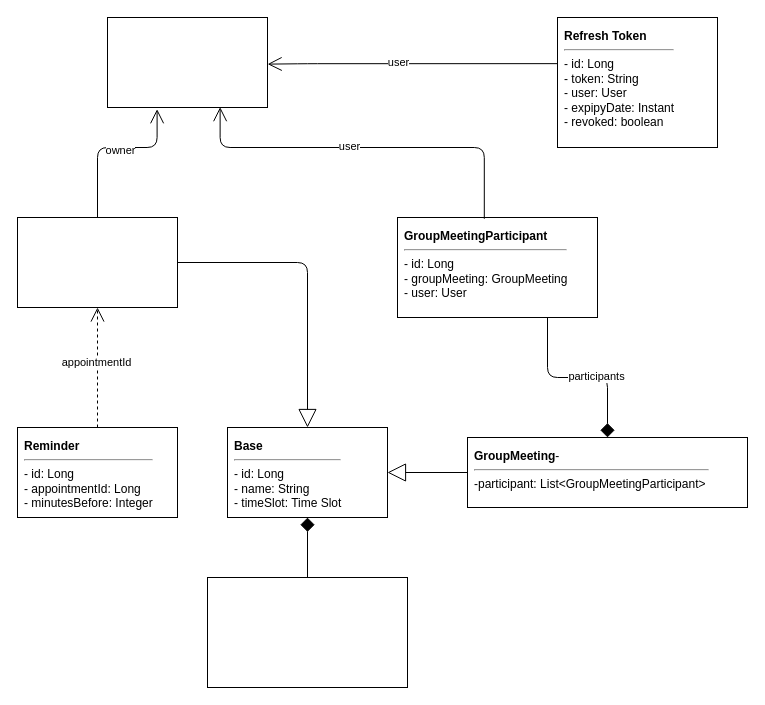
The diagram is 765 pixels wide and 705 high, and some of its shapes have lost their labels. The centre of each missing label's shape, as x and y in pixels:
Appointment - location: String - Owner :User: point 97,262
TimeSlot - startTime: Instant - endTime: Instant + overlaps(TimeSlot): boolean: point 307,632
User - id: Long - email: String - password: String: point 187,62
